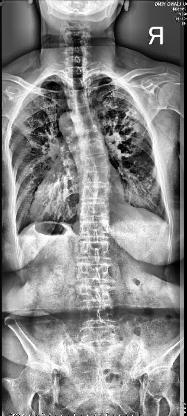Vertebrae: (76, 282, 110, 300), (78, 262, 112, 278), (80, 141, 108, 155), (81, 186, 109, 200), (78, 235, 108, 248), (83, 170, 110, 184), (64, 87, 92, 99), (83, 156, 111, 168), (80, 202, 108, 214), (63, 77, 89, 89), (70, 110, 96, 122), (77, 129, 103, 141), (78, 214, 108, 224), (79, 224, 109, 234), (78, 249, 108, 259), (74, 119, 98, 130), (66, 100, 92, 110), (63, 67, 86, 77)
